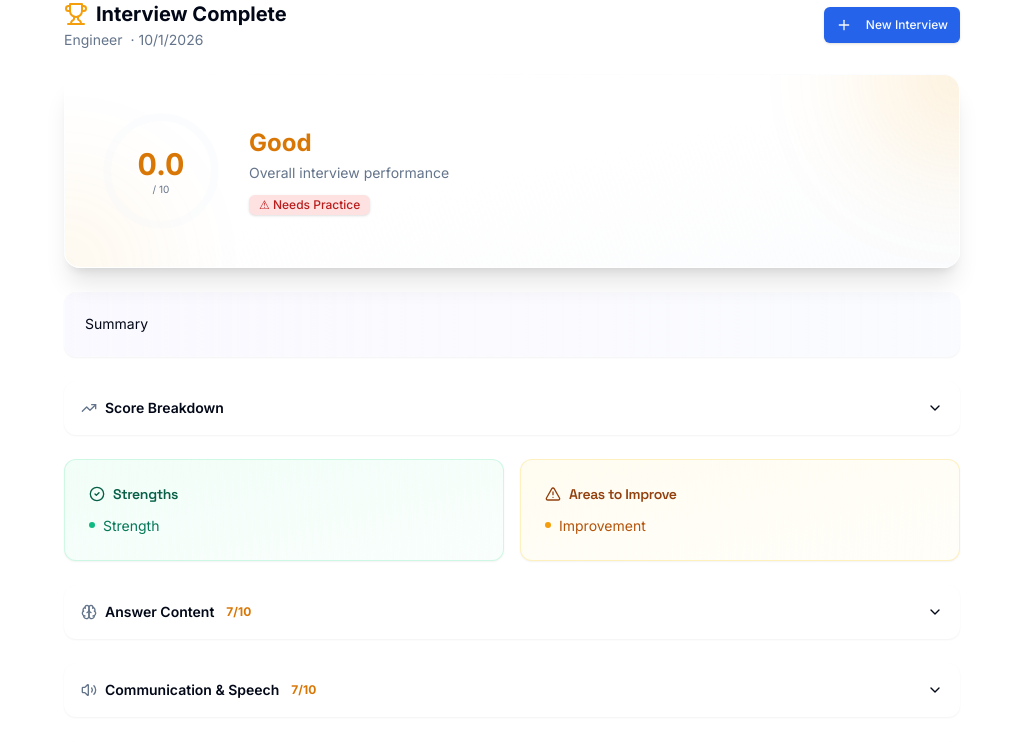
Test: #1387 interview-results-page voice block › null voice dimension → N/A muted, no bare /10, no red card
Click the button "Communication & Speech 7/10".
click(192, 689)  # box x1=65 y1=664 x2=959 y2=716
(page scrolled)
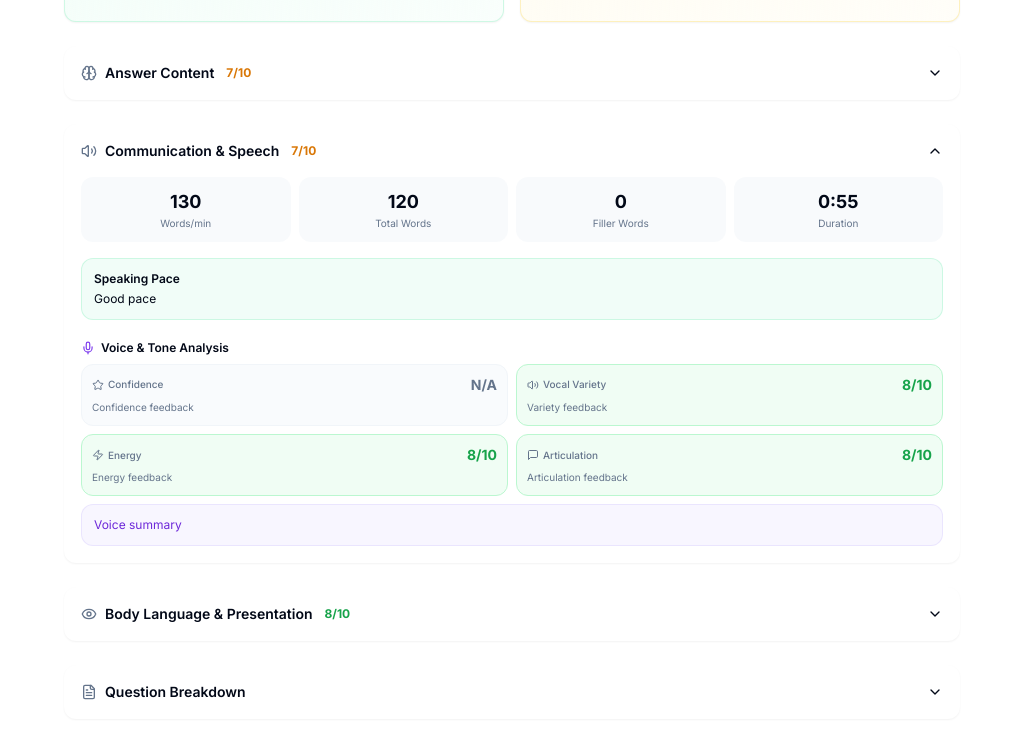
Expected: the heading "Voice & Tone Analysis" is shown, x1=81 y1=340 x2=229 y2=355
